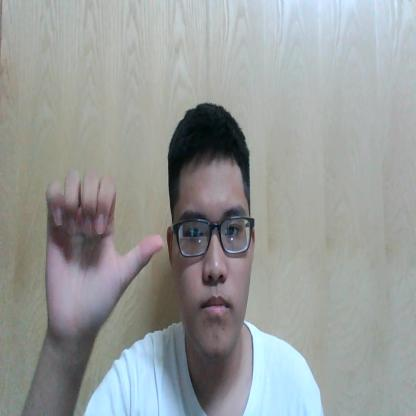left: (44, 169, 164, 336)
